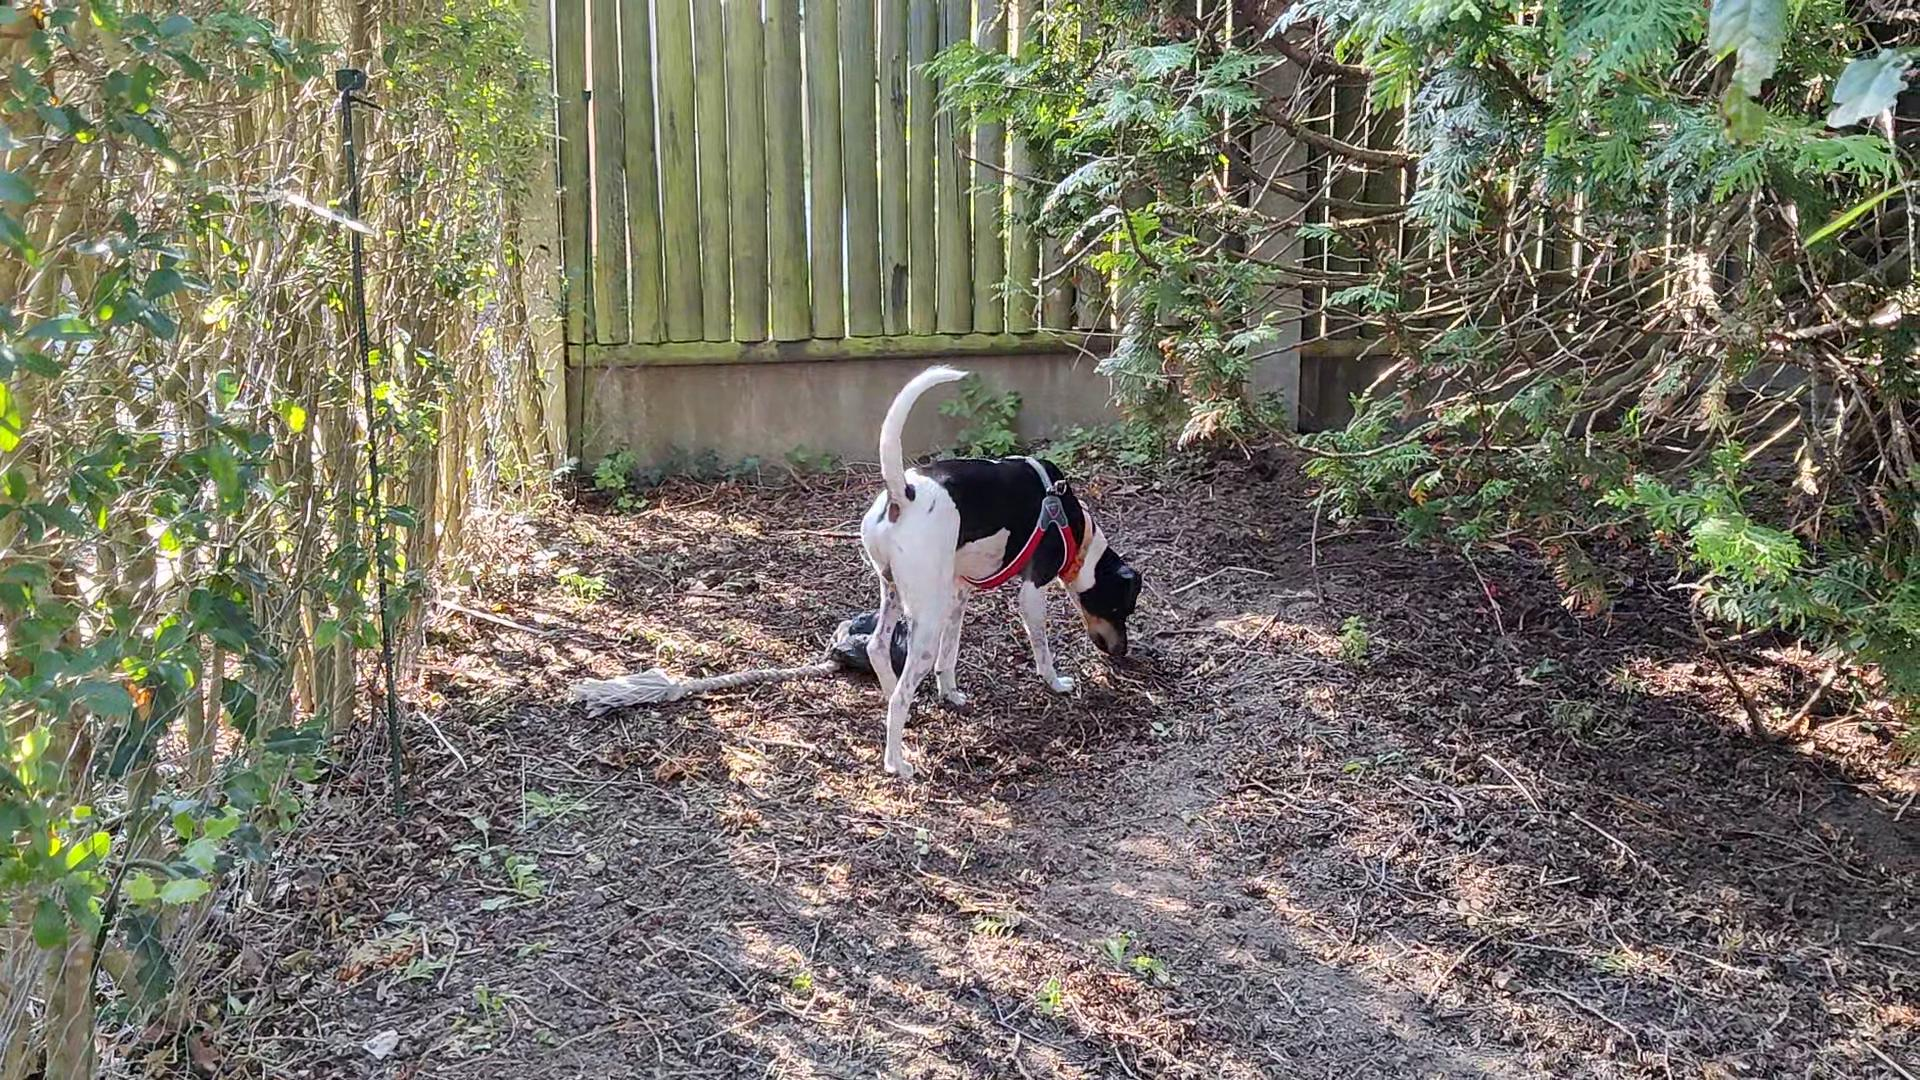Dog: (849, 357, 1149, 783)
